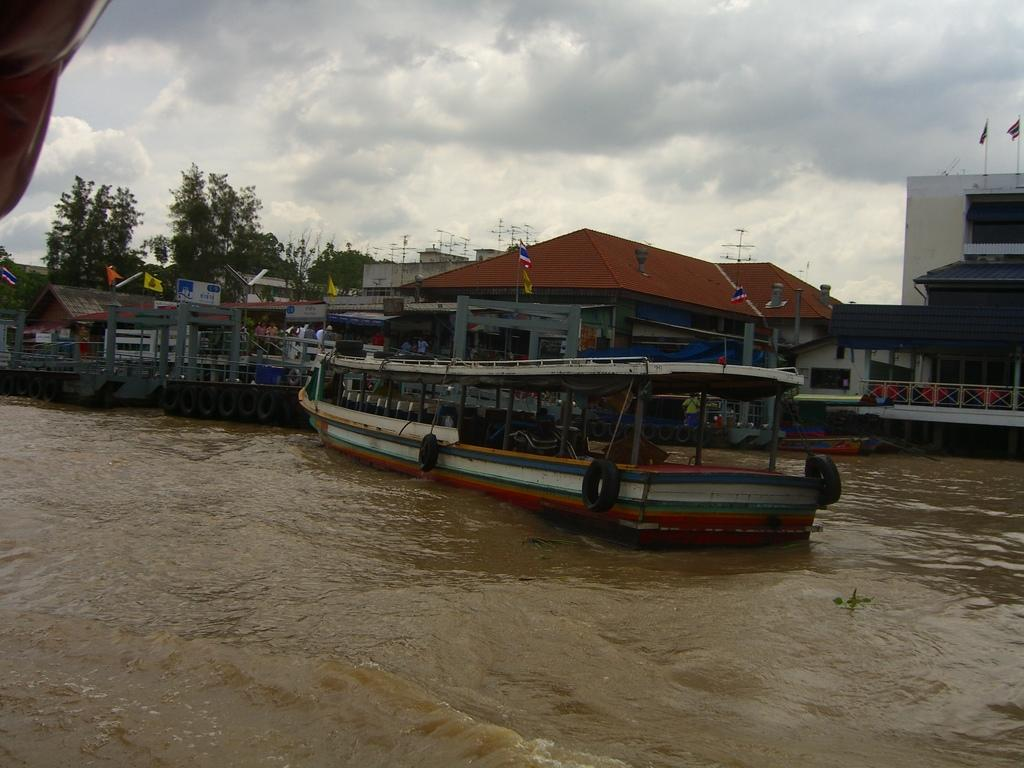PassengerShip: (290, 320, 848, 550)
